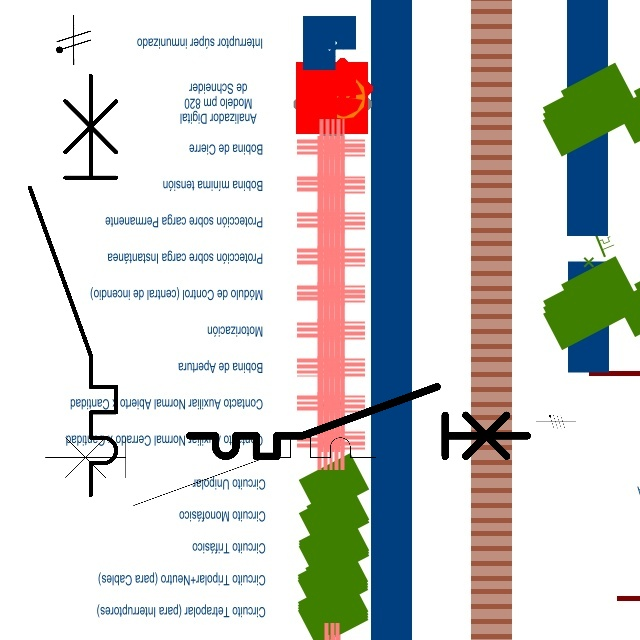interruptor_termomagnetico: (19, 64, 127, 505), (181, 378, 536, 465), (37, 429, 384, 514)
